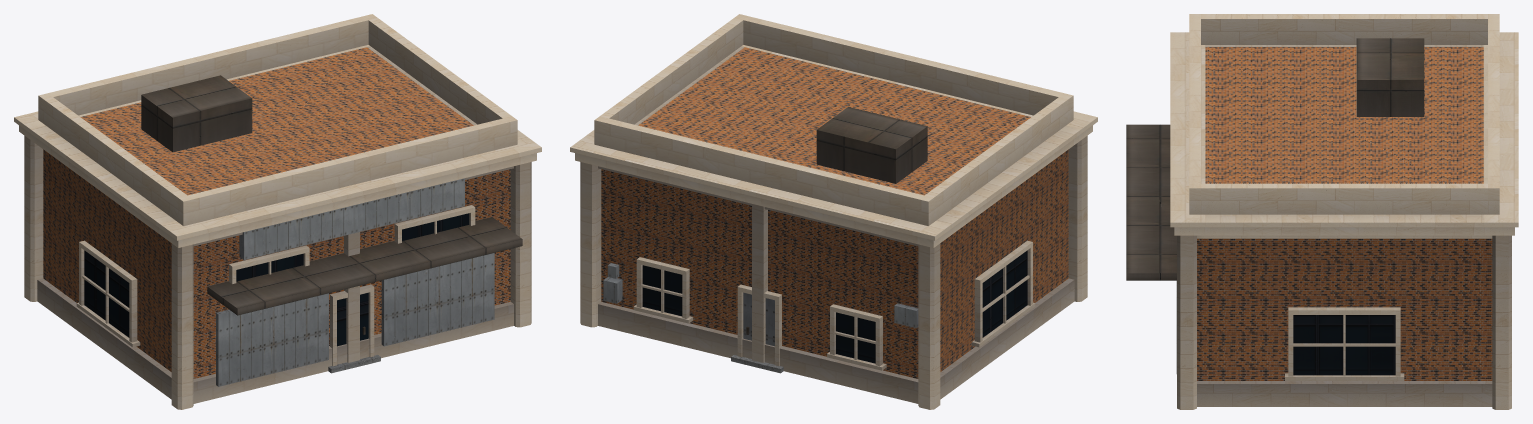
Rendered from corner-spirits-store_lod0.gltf.
3 renders of one model, left to right at view 1: azimuth 30°, elevation 25°; view 2: azimuth 150°, elevation 25°; view 3: azimuth 270°, elevation 25°, orthographic. The views are drawn at different scales.
Parts seen in each view (by area): view 1: corner-spirits-store__v4_stone_detail, corner-spirits-store__parapet, corner-spirits-store_main, corner-spirits-store__v4_metal_detail, corner-spirits-store__shutter_a, corner-spirits-store__shutter_b, corner-spirits-store__sign_band, corner-spirits-store_fen_04-limestone_0, corner-spirits-store_fen_07-glass-curtain-blue_1_t; view 2: corner-spirits-store__v4_stone_detail, corner-spirits-store_main, corner-spirits-store__parapet, corner-spirits-store_fen_04-limestone_0, corner-spirits-store__v4_metal_detail, corner-spirits-store_fen_07-glass-curtain-blue_1_t, corner-spirits-store_fen_14-steel-panel_4; view 3: corner-spirits-store__v4_stone_detail, corner-spirits-store_main, corner-spirits-store__parapet, corner-spirits-store__v4_metal_detail, corner-spirits-store_fen_07-glass-curtain-blue_1_t, corner-spirits-store_fen_04-limestone_0.
Part boxes in pixels (bbox=[...]): corner-spirits-store__v4_stone_detail: bbox=[14, 14, 541, 409]; corner-spirits-store__parapet: bbox=[80, 47, 473, 195]; corner-spirits-store_main: bbox=[43, 149, 510, 378]; corner-spirits-store__v4_metal_detail: bbox=[141, 75, 522, 315]; corner-spirits-store__shutter_a: bbox=[216, 293, 328, 386]; corner-spirits-store__shutter_b: bbox=[381, 253, 494, 346]; corner-spirits-store__sign_band: bbox=[239, 178, 464, 259]; corner-spirits-store_fen_04-limestone_0: bbox=[76, 205, 475, 366]; corner-spirits-store_fen_07-glass-curtain-blue_1_t: bbox=[84, 213, 469, 346]; corner-spirits-store__v4_stone_detail: bbox=[570, 14, 1097, 409]; corner-spirits-store_main: bbox=[601, 149, 1068, 378]; corner-spirits-store__parapet: bbox=[638, 47, 1031, 195]; corner-spirits-store_fen_04-limestone_0: bbox=[633, 240, 1035, 370]; corner-spirits-store__v4_metal_detail: bbox=[816, 107, 927, 183]; corner-spirits-store_fen_07-glass-curtain-blue_1_t: bbox=[642, 250, 1027, 363]; corner-spirits-store_fen_14-steel-panel_4: bbox=[603, 263, 918, 346]; corner-spirits-store__v4_stone_detail: bbox=[1170, 14, 1518, 409]; corner-spirits-store_main: bbox=[1197, 238, 1492, 380]; corner-spirits-store__parapet: bbox=[1205, 47, 1483, 183]; corner-spirits-store__v4_metal_detail: bbox=[1126, 38, 1424, 280]; corner-spirits-store_fen_07-glass-curtain-blue_1_t: bbox=[1293, 315, 1395, 375]; corner-spirits-store_fen_04-limestone_0: bbox=[1285, 307, 1404, 380].
Bounding box in the file's own units: 13.22 × 7.35 × 11.51.
